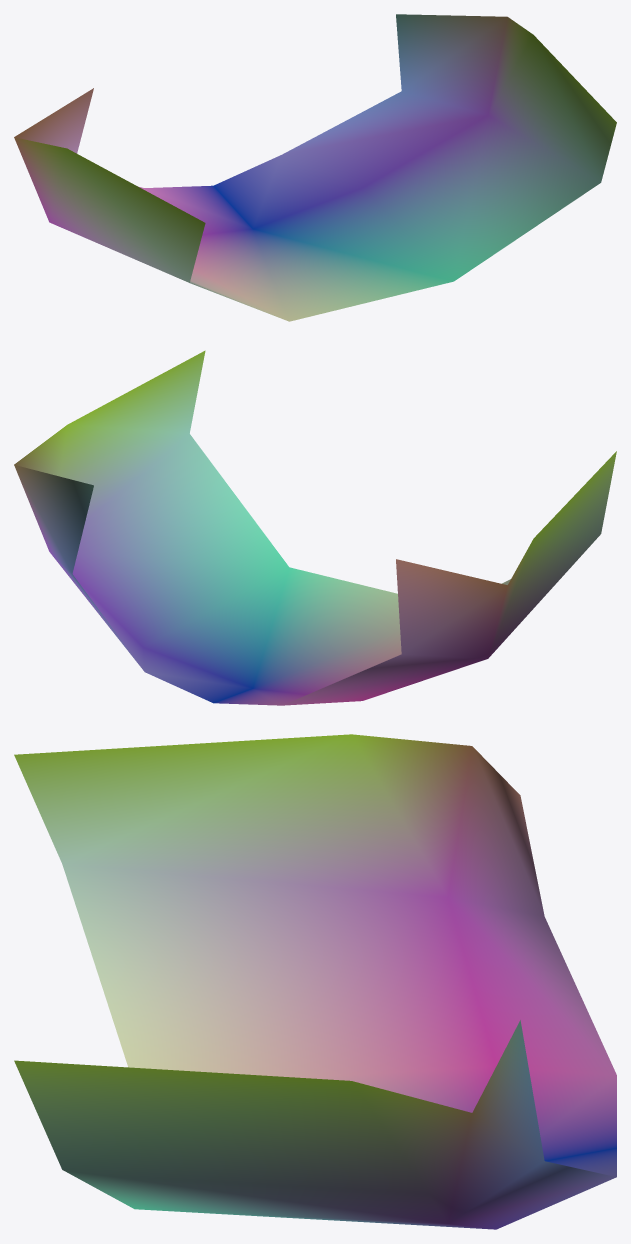
3 renders of one model, top to bottom at view 1: azimuth 30°, elevation 25°; view 2: azimuth 150°, elevation 25°; view 3: azimuth 270°, elevation 25°, orthographic. The views are drawn at different scales.
Parts seen in each view (by area): view 1: part; view 2: part; view 3: part.
Boxes of the visible parts, x1,y1,x2,y2 form: part: (14,14,616,321); part: (14,350,616,705); part: (14,734,616,1229).
Bounding box in the file's own units: 36 × 12 × 25.
